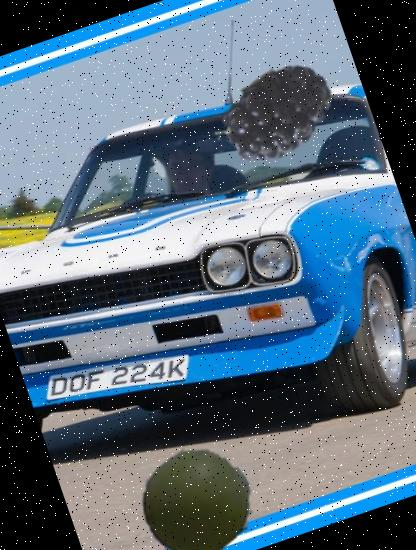Grape: (126, 432, 266, 550)
Mulberry: (204, 45, 364, 205)
